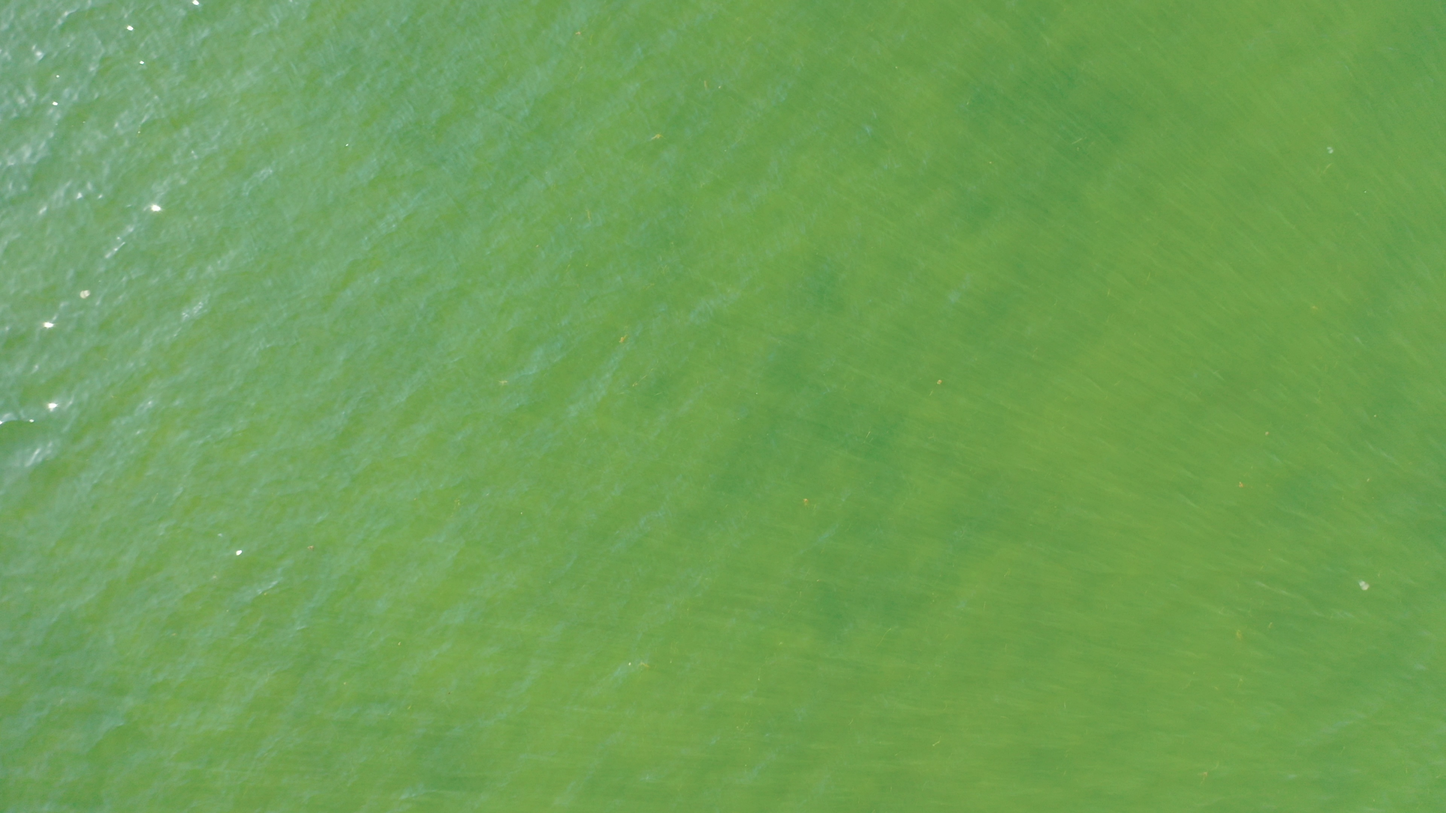meduse: (1358, 581, 1369, 591), (80, 289, 91, 299), (1327, 146, 1335, 154)
